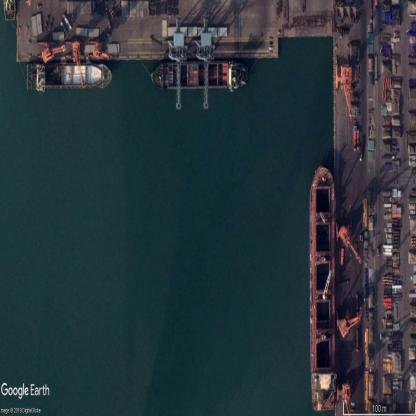ship: (153, 58, 251, 93), (24, 62, 114, 89)
